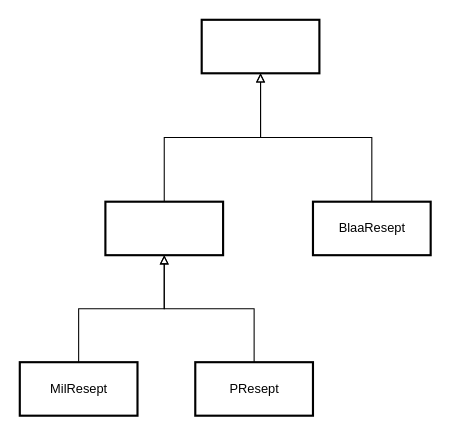
The diagram is 449 pixels wide and 434 high, and some of its shapes have lost their labels. Each missing label, with the centre of its shape:
"HvitResept" goes at (164,228).
"Resept" goes at (260,46).
